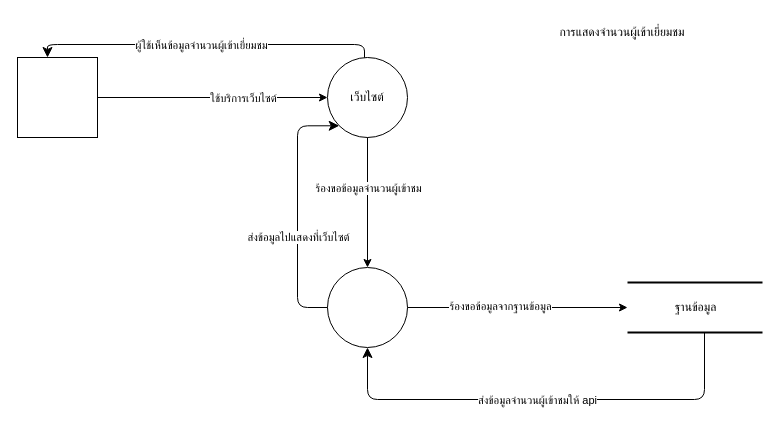
The diagram is 781 pixels wide and 427 high, and some of its shapes have lost their labels. The shapes that lost their labels are listed below. From the top down, each one's centre as x and y in pixels, then its label:
the point at 57,97: ผู้ใช้ทั่วไป
the point at 367,307: API
